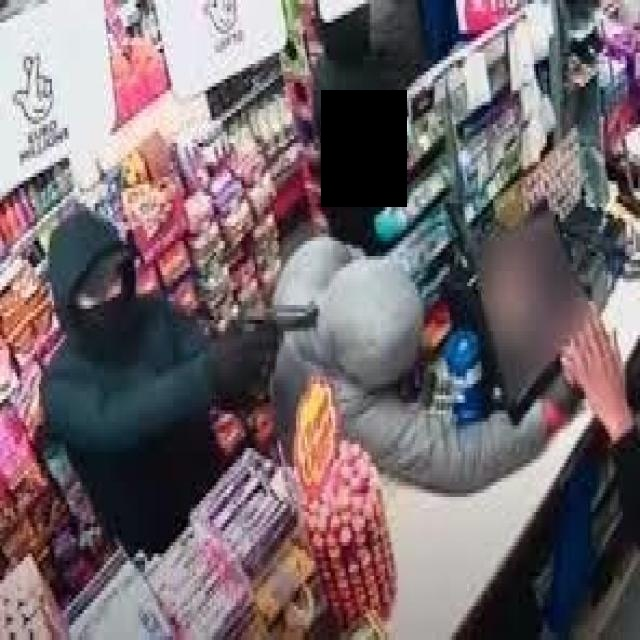gun: (227, 286, 313, 384)
